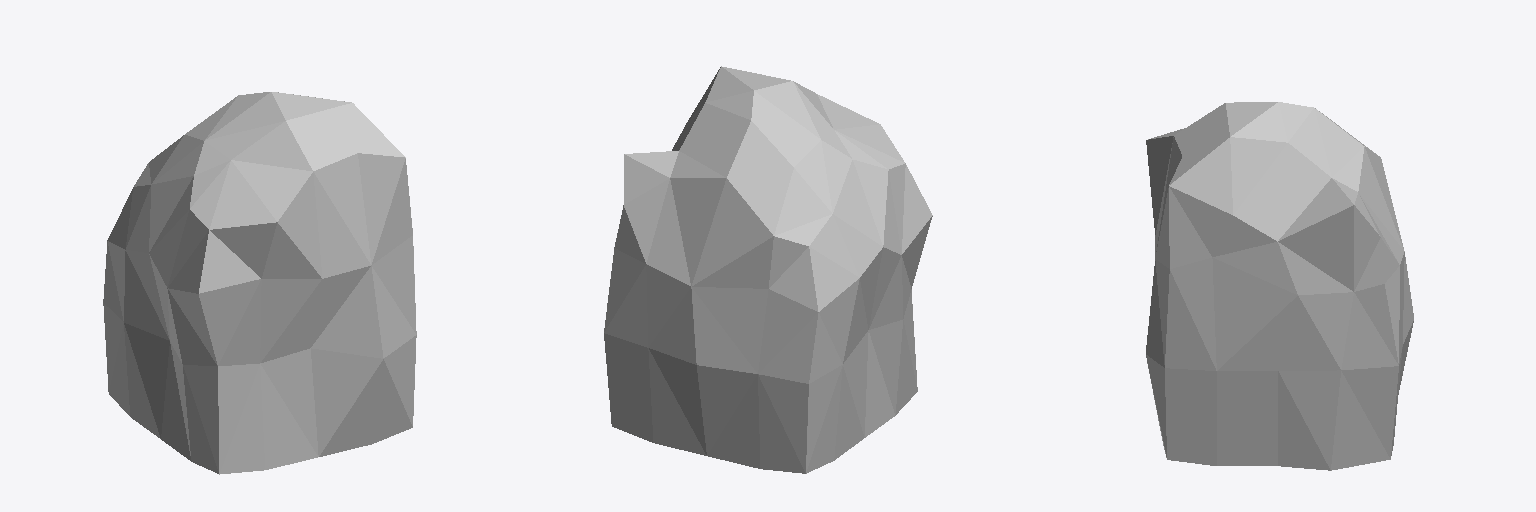
Rendered from obstacle1.obj.
3 views of the same model, side by side, from view 1: azimuth 30°, elevation 25°; view 2: azimuth 150°, elevation 25°; view 3: azimuth 270°, elevation 25° (orthographic).
Parts seen in each view (by area): view 1: Cube.001_Cube.002; view 2: Cube.001_Cube.002; view 3: Cube.001_Cube.002.
Boxes of the visible parts, x1=… form: Cube.001_Cube.002: x1=103, y1=92, x2=416, y2=474; Cube.001_Cube.002: x1=604, y1=66, x2=932, y2=473; Cube.001_Cube.002: x1=1146, y1=102, x2=1413, y2=470.
Bounding box in the file's own units: 2.09 × 2.89 × 2.18.